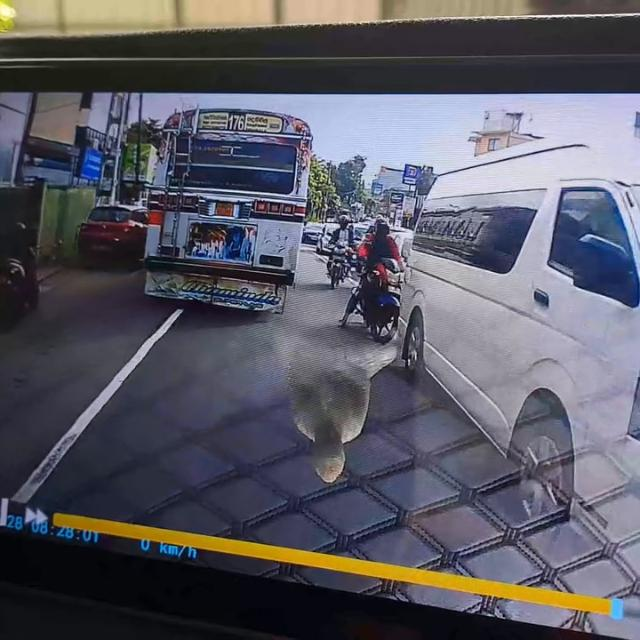illegal overtaking: (352, 225, 403, 352), (331, 225, 348, 288)
